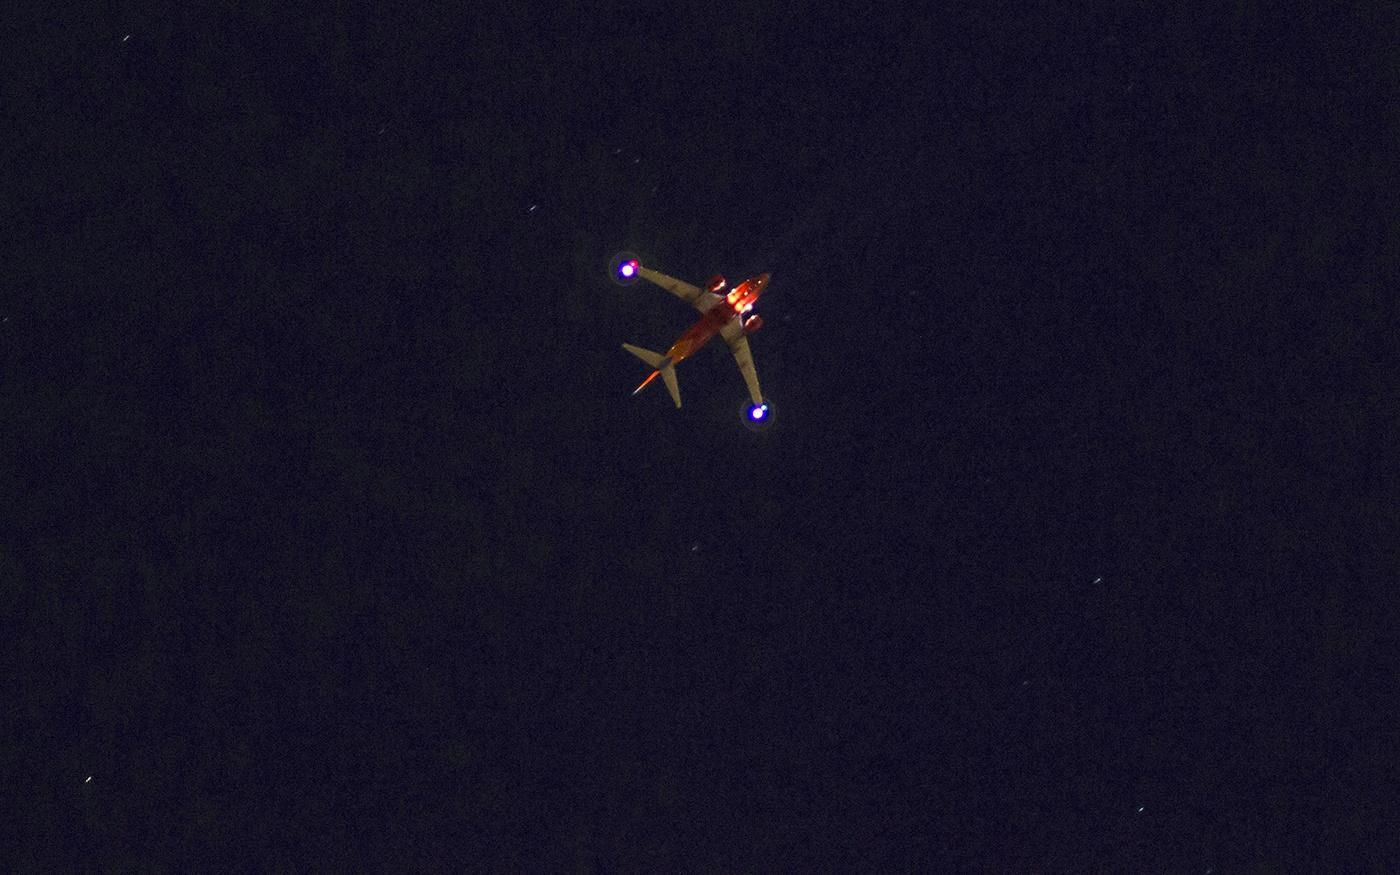Plane: (556, 247, 843, 410)
